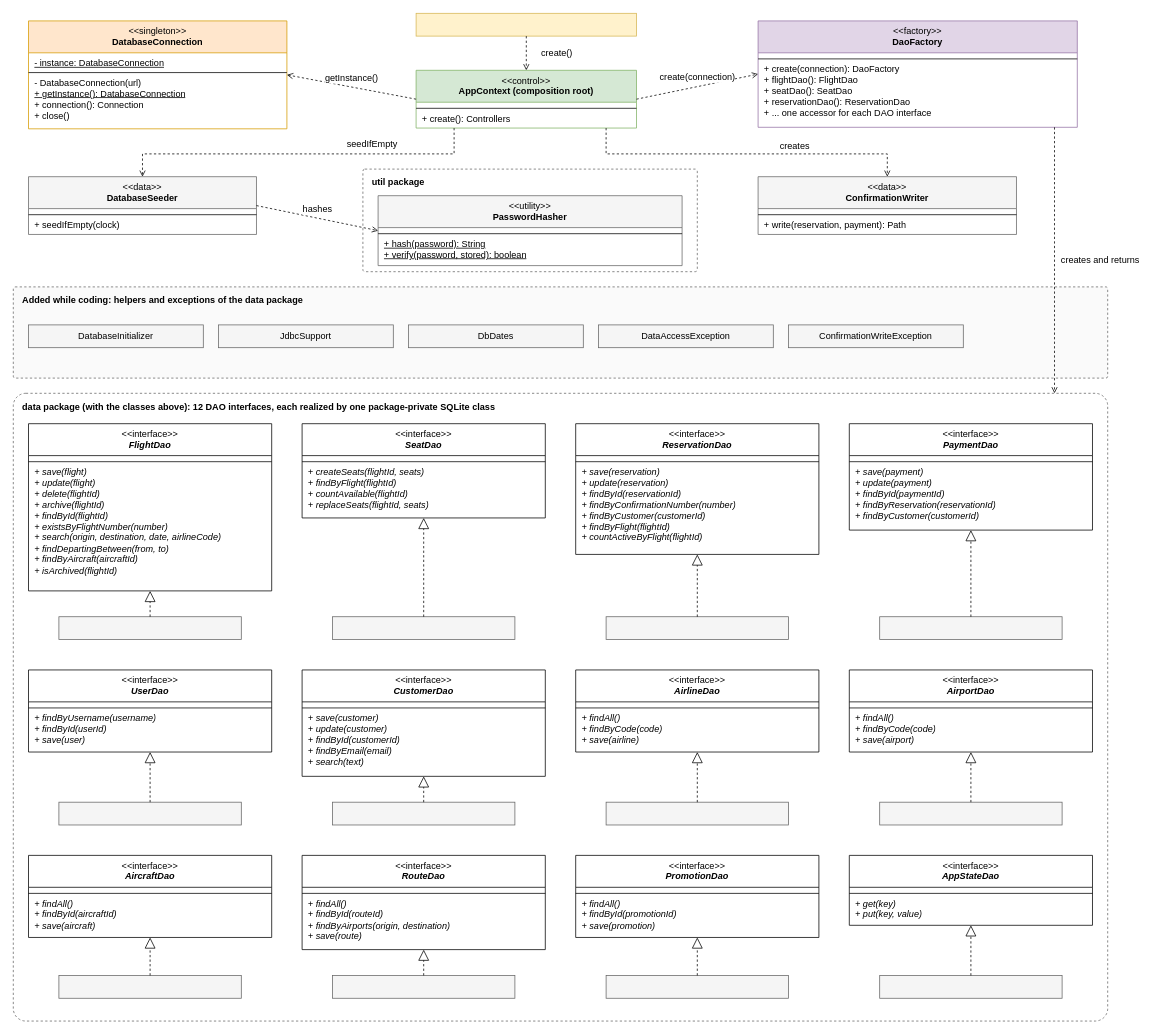
Image size: 1153x1034. Some labels were removed from this diagram. The centre of each missing label's shape, as x and y in pixels:
<<data>> SqliteAircraftDao: [149,986]
<<data>> SqliteAirlineDao: [696,813]
<<data>> SqliteAirportDao: [970,813]
<<data>> SqliteAppStateDao: [970,986]
<<data>> SqliteCustomerDao: [423,813]
<<data>> SqliteFlightDao: [149,628]
<<data>> SqlitePaymentDao: [970,628]
<<data>> SqlitePromotionDao: [696,986]
<<data>> SqliteReservationDao: [696,628]
<<data>> SqliteRouteDao: [423,986]
<<data>> SqliteSeatDao: [423,628]
<<data>> SqliteUserDao: [149,813]
ChinookAir (main): [525,24]
